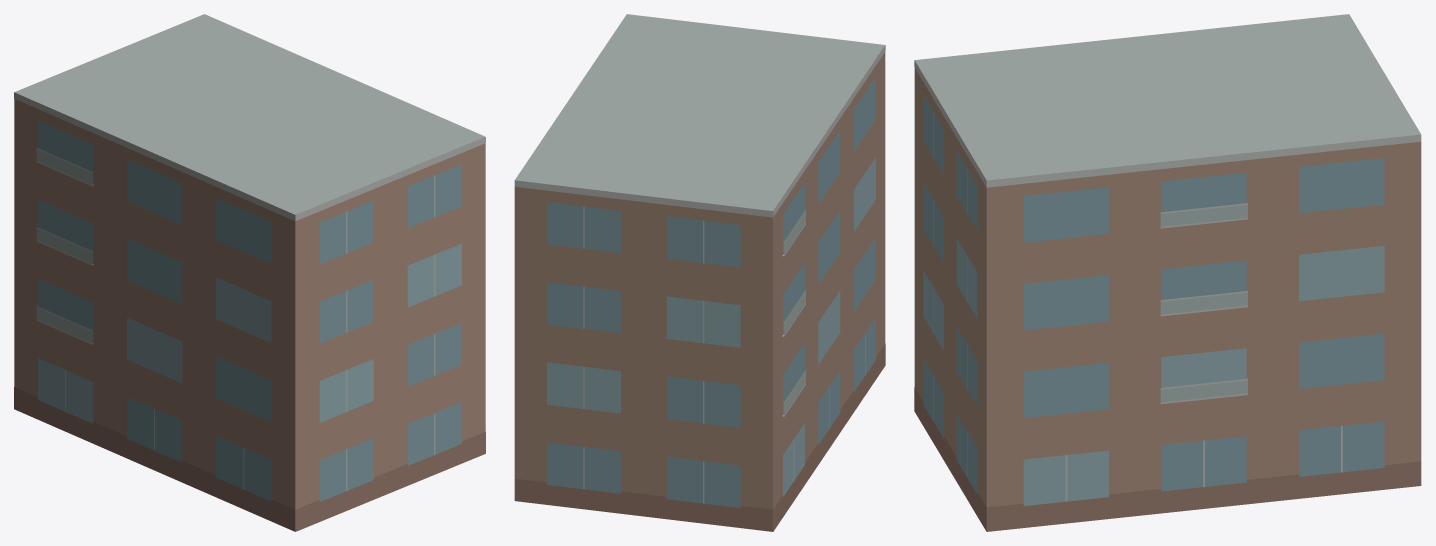
Rendered from survey-upis-32720550.glb.
The picture shows the model from 3 angles, left to right: view 1: azimuth 30°, elevation 25°; view 2: azimuth 150°, elevation 25°; view 3: azimuth 270°, elevation 25°; orthographic projection. The views are drawn at different scales.
Visible parts, largest first — view 1: survey-upis-32720550.tmp; view 2: survey-upis-32720550.tmp; view 3: survey-upis-32720550.tmp.
Boxes of the visible parts, left/top/right/bottom form: survey-upis-32720550.tmp: left=14, top=14, right=485, bottom=531; survey-upis-32720550.tmp: left=514, top=14, right=885, bottom=531; survey-upis-32720550.tmp: left=914, top=14, right=1421, bottom=531.
Size of the model in its own units: 12.42 by 12.2 by 15.97.
